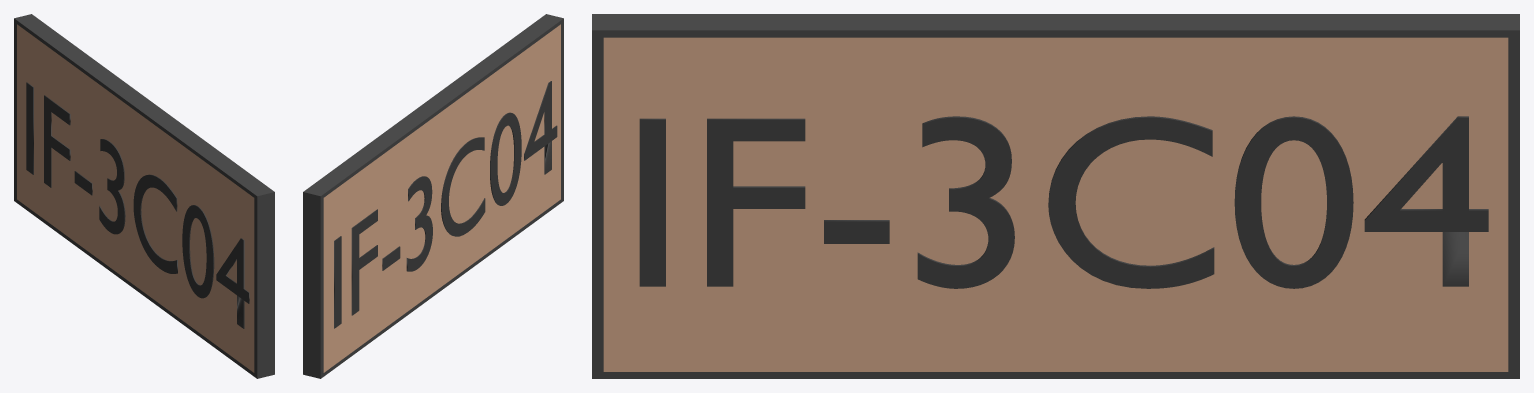
3 views of the same model, side by side, from view 1: azimuth 30°, elevation 25°; view 2: azimuth 150°, elevation 25°; view 3: azimuth 270°, elevation 25° (orthographic). The views are drawn at different scales.
Visible parts, largest first — view 1: Cube; view 2: Cube; view 3: Cube.
Part boxes in pixels (<box>): Cube: <box>14,14,274,378</box>; Cube: <box>303,14,563,378</box>; Cube: <box>592,14,1519,378</box>.
Size of the model in its own units: 11.57 by 102 by 247.
